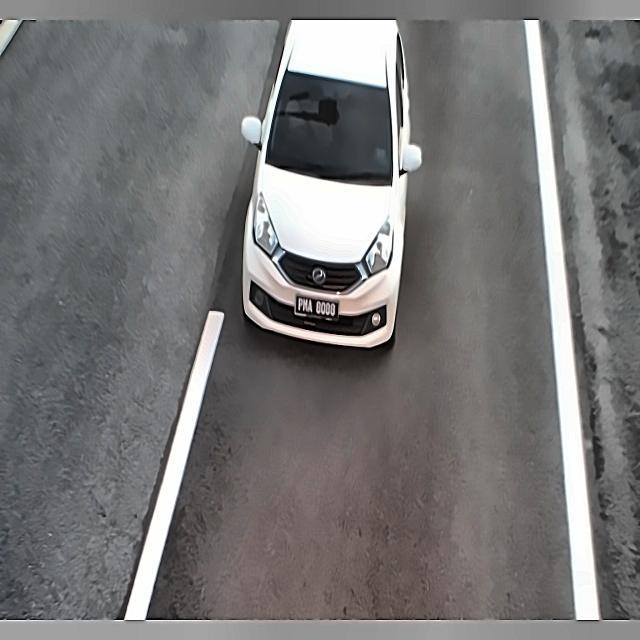car: (293, 291, 339, 326)
